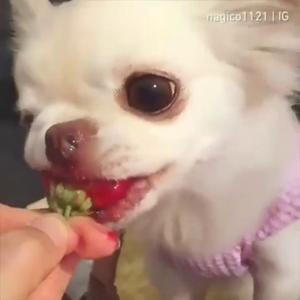nasal_discharge: (55, 120, 89, 161)
